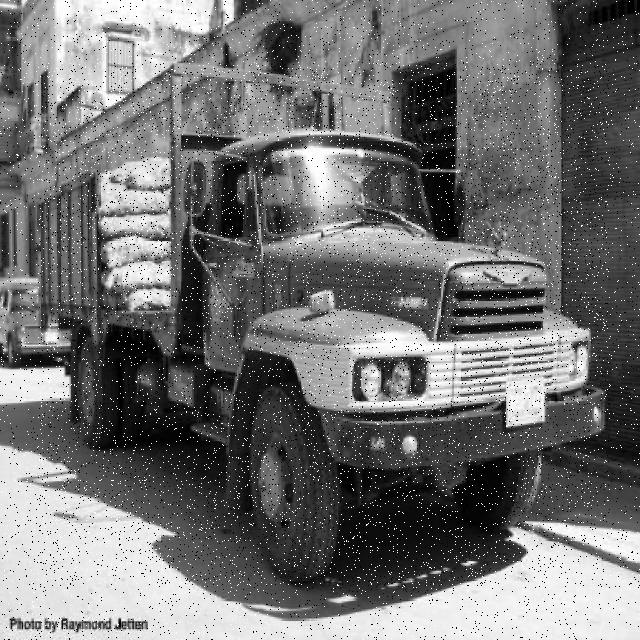Truck- 2-Axle: (38, 63, 609, 586)
